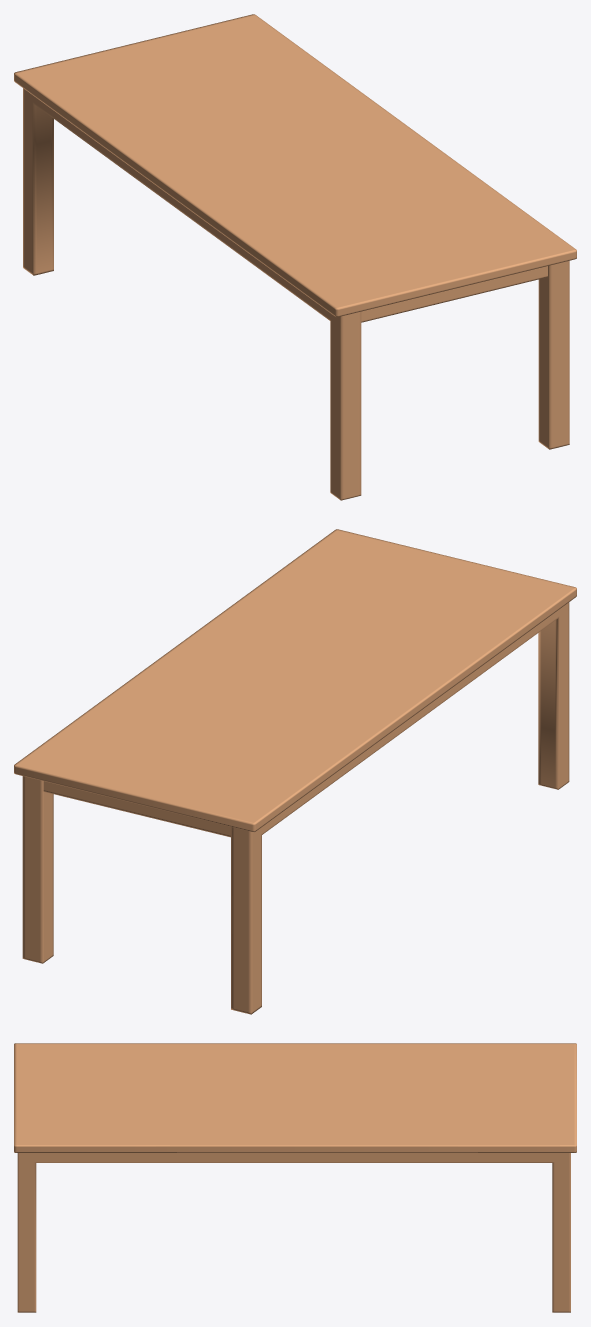
Rendered from MSH_EstanciaRoof_MesaComedor.fbx.
The picture shows the model from 3 angles, top to bottom: view 1: azimuth 30°, elevation 25°; view 2: azimuth 150°, elevation 25°; view 3: azimuth 270°, elevation 25°; orthographic projection. The views are drawn at different scales.
Parts seen in each view (by area): view 1: MSH_EstanciaRoof_MesaComedor; view 2: MSH_EstanciaRoof_MesaComedor; view 3: MSH_EstanciaRoof_MesaComedor.
Part boxes in pixels (box(x1,y1,x2,y2)): MSH_EstanciaRoof_MesaComedor: box(14, 14, 576, 500); MSH_EstanciaRoof_MesaComedor: box(14, 529, 576, 1014); MSH_EstanciaRoof_MesaComedor: box(14, 1043, 576, 1312).
Size of the model in its own units: 141 by 109 by 328.
